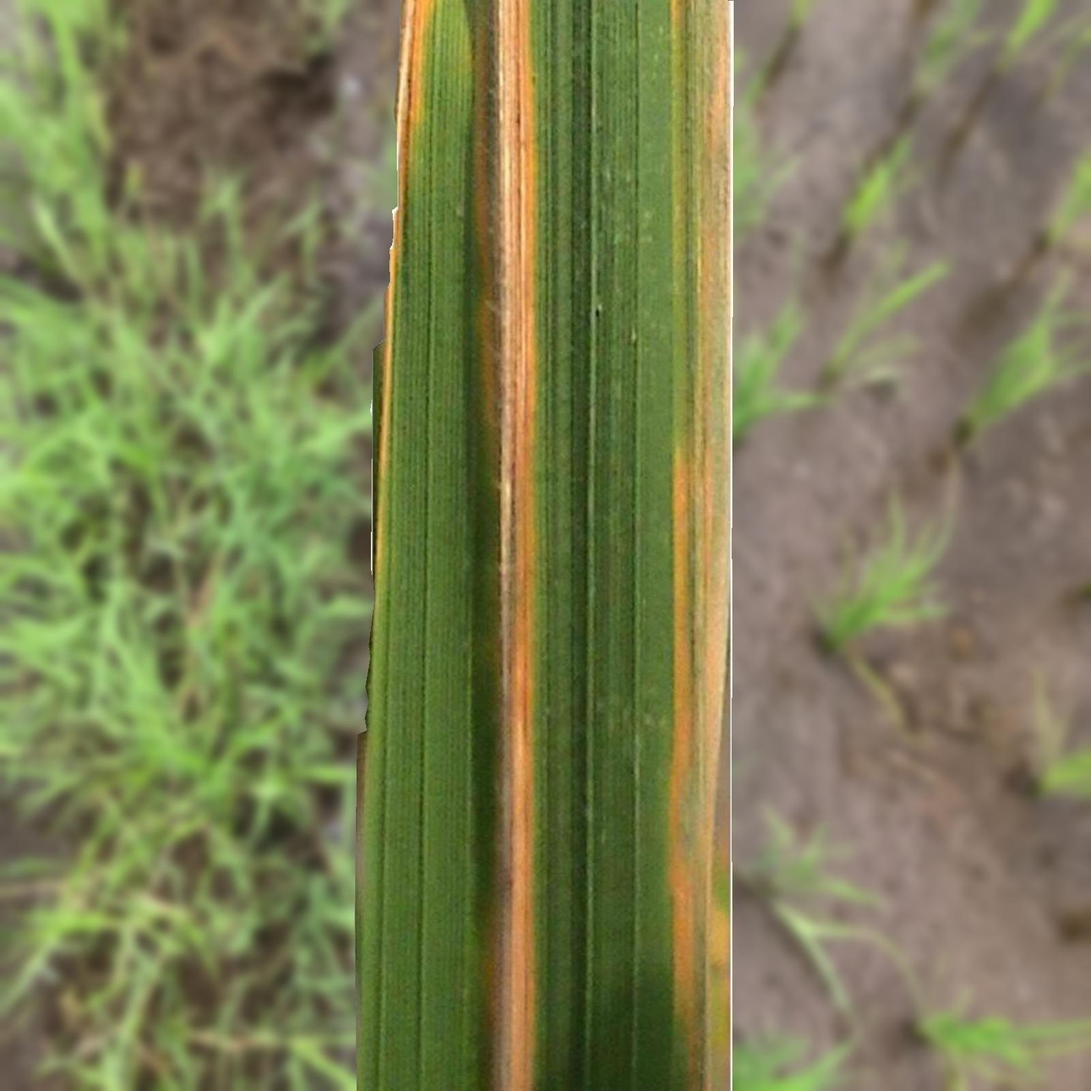BLS: (463, 0, 538, 1090), (663, 1, 733, 1090)
LEAF: (355, 0, 732, 1090)
